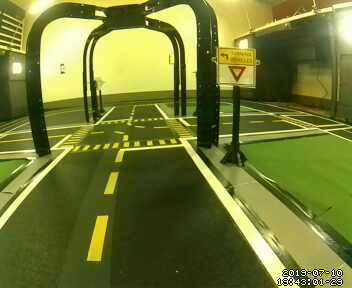Turn Yield: (216, 45, 257, 87)
